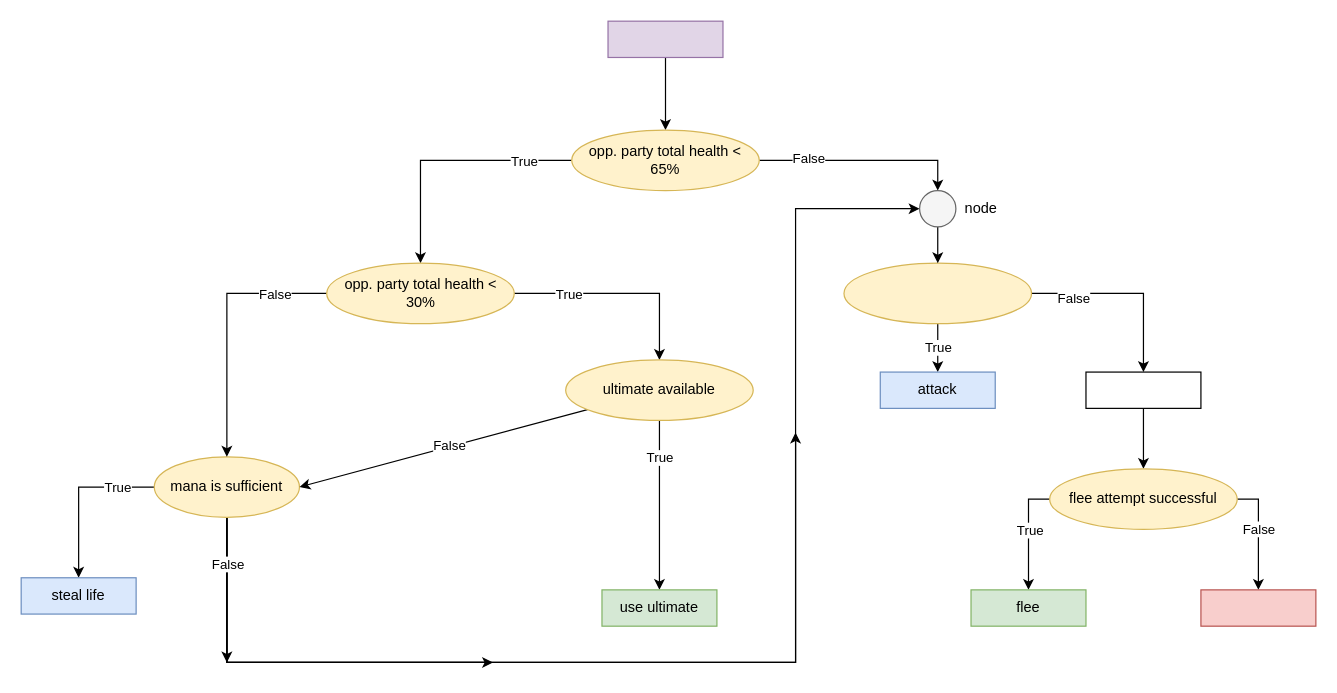
The diagram is 1337 pixels wide and 693 high, and some of its shapes have lost their labels. The centre of each missing label's shape, as x and y in pixels:
attempt flee: the point at 1143,389
do nothing: the point at 1258,607
root: the point at 665,38
stamina != 0: the point at 937,293
